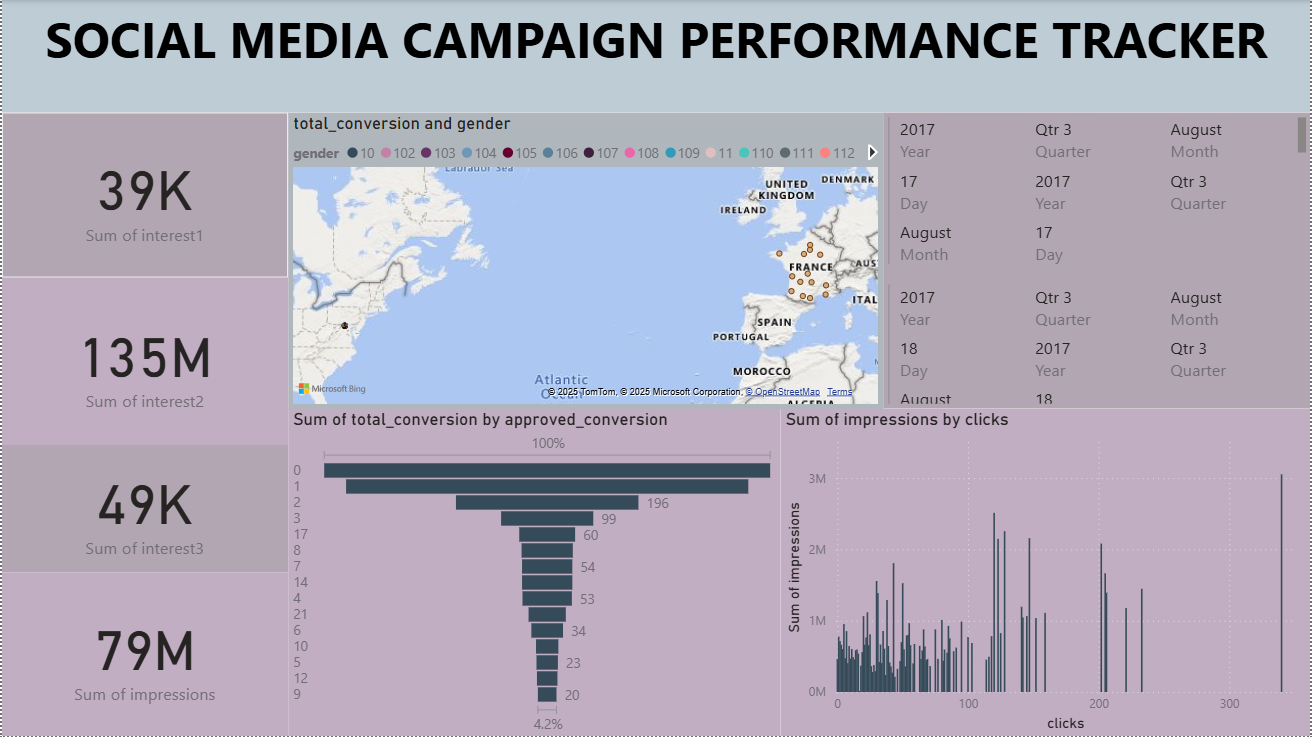

This screenshot's page, from the dashboard's own definition file:
{"tool":"powerbi","page":{"name":"Page 1","canvas":[1280,720],"ordinal":0},"visuals":[{"type":"map","fields":{"Series":["data.gender"],"Category":["data.total_conversion"]},"box":[279.9,109.8,581.8,289.5],"z":0},{"type":"card","fields":{"Values":["Sum(data.interest2)"]},"box":[0,271.5,280,163.9],"z":1},{"type":"card","fields":{"Values":["Sum(data.interest3)"]},"box":[0,435,279.9,124.9],"z":2},{"type":"card","fields":{"Values":["Sum(data.impressions)"]},"box":[0,559.9,279.9,160.5],"z":3},{"type":"card","fields":{"Values":["Sum(data.interest1)"]},"box":[0,110.1,280,161.4],"z":4},{"type":"funnel","fields":{"Category":["data.approved_conversion"],"Y":["Sum(data.total_conversion)"]},"box":[279.9,399.3,481.6,321.1],"z":5},{"type":"multiRowCard","fields":{"Values":["data.reporting_end.Variation.Date Hierarchy.Year","data.reporting_end.Variation.Date Hierarchy.Quarter","data.reporting_end.Variation.Date Hierarchy.Month","data.reporting_end.Variation.Date Hierarchy.Day","data.reporting_start.Variation.Date Hierarchy.Year","data.reporting_start.Variation.Date Hierarchy.Quarter","data.reporting_start.Variation.Date Hierarchy.Month","data.reporting_start.Variation.Date Hierarchy.Day"]},"box":[861.8,109.8,418.5,289.5],"z":6},{"type":"lineClusteredColumnComboChart","fields":{"Y":["Sum(data.impressions)"],"Category":["data.clicks"]},"box":[761.6,399.3,518.7,321.1],"z":9},{"type":"textbox","box":[0,0,1280.3,109.8],"z":10}]}

Visuals, with their boxes in screenshot pixels (x1, y1, x2, y2), scaled from the page's 1280x720 canvas onto the 1312x737 screenshot:
map - data.gender x data.total_conversion: select_region(287, 112, 883, 409)
card - Sum(data.interest2): select_region(0, 278, 287, 446)
card - Sum(data.interest3): select_region(0, 445, 287, 573)
card - Sum(data.impressions): select_region(0, 573, 287, 736)
card - Sum(data.interest1): select_region(0, 113, 287, 278)
funnel - data.approved_conversion x Sum(data.total_conversion): select_region(287, 409, 781, 736)
multiRowCard - data.reporting_end.Variation.Date Hierarchy.Year x data.reporting_end.Variation.Date Hierarchy.Quarter: select_region(883, 112, 1311, 409)
lineClusteredColumnComboChart - Sum(data.impressions) x data.clicks: select_region(781, 409, 1311, 736)
textbox: select_region(0, 0, 1311, 112)
